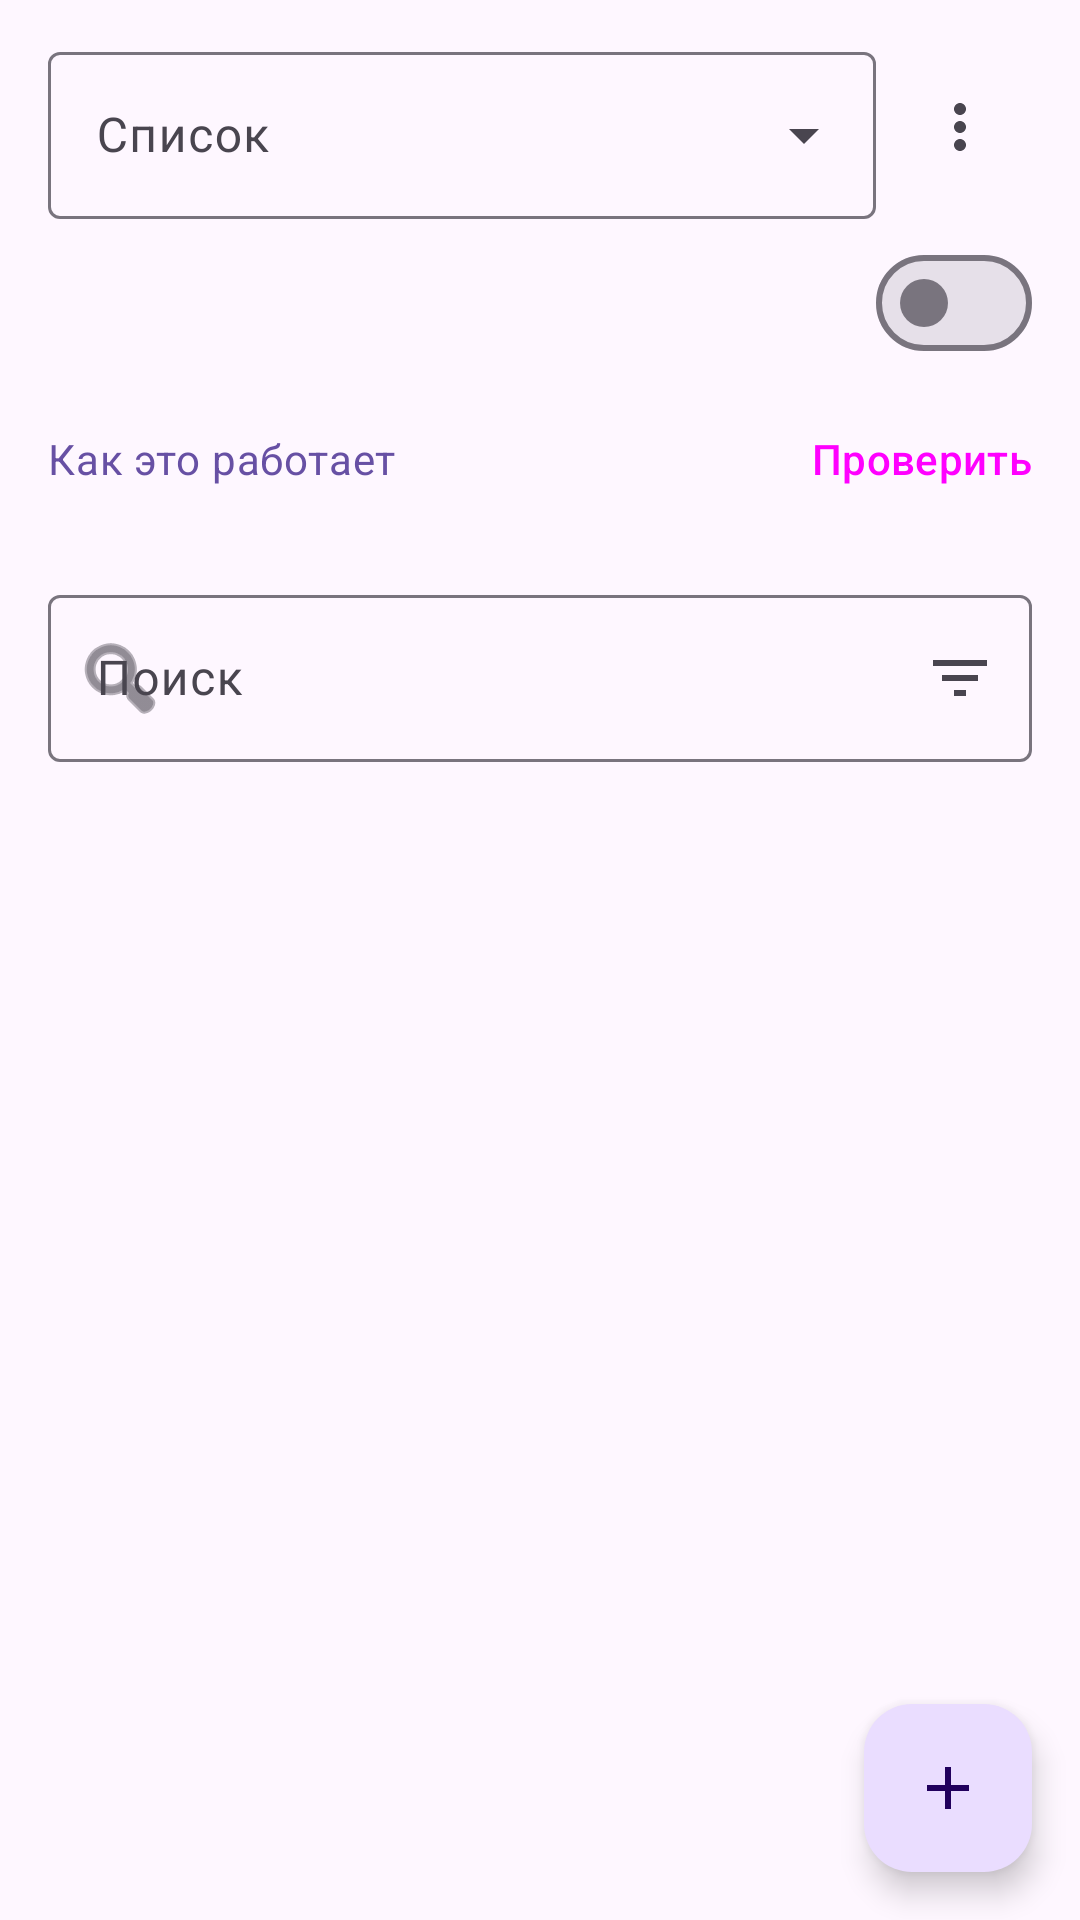

Icons on this 1080x1920 Android screen, each with its box as [x1, y1, x2, y2]:
Действия со списком: [954, 103, 966, 151]
Добавить: [864, 1704, 1032, 1872]
